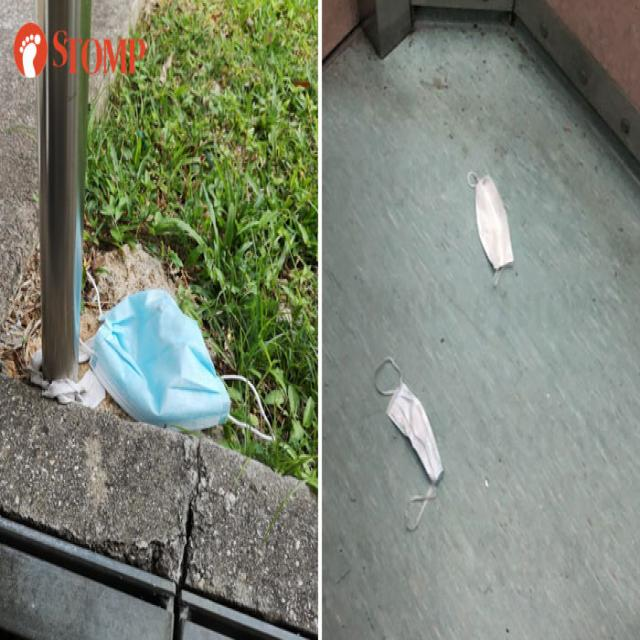non-organic waste: (82, 252, 276, 458), (374, 352, 442, 530), (466, 162, 518, 303)
